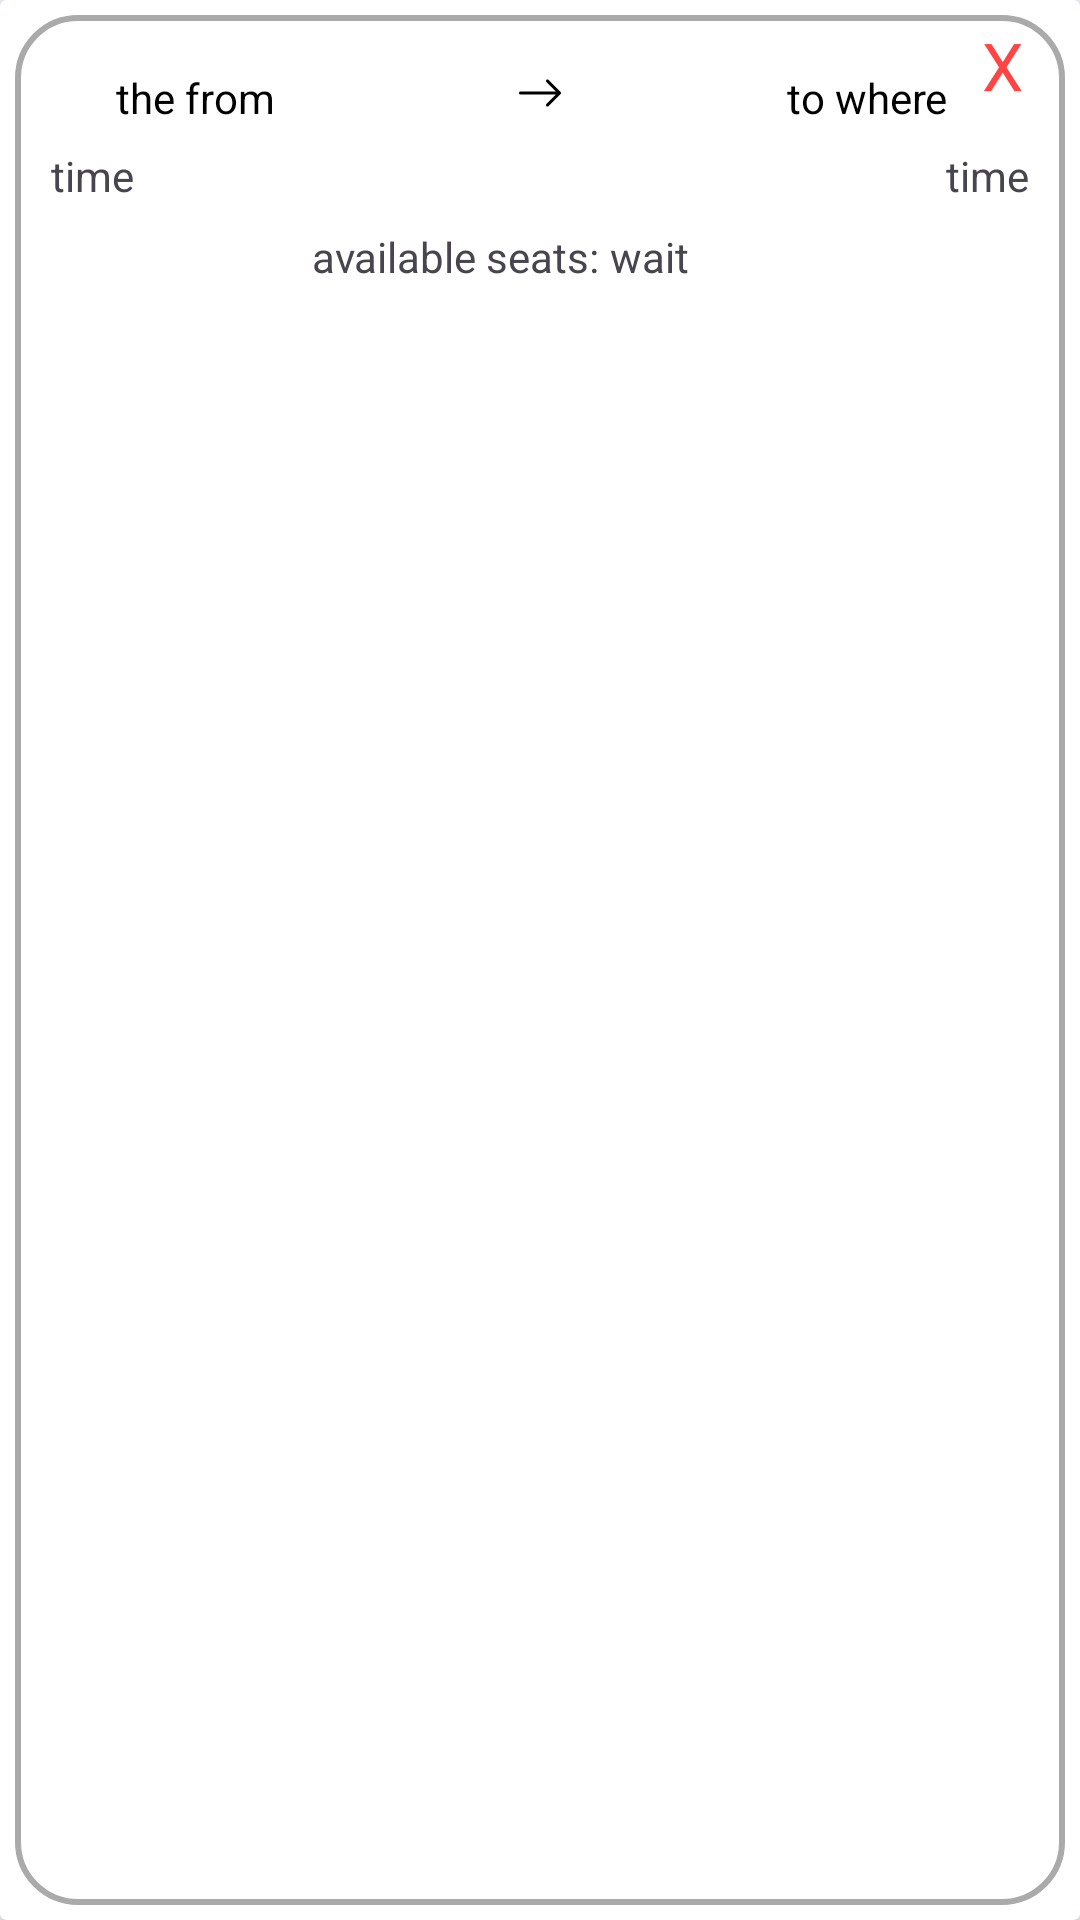

Icon bounding boxes for this 1080 × 1920 phone screenshot, format bbox(x1, y1, x2, y2):
arrow right: bbox(519, 79, 561, 107)
